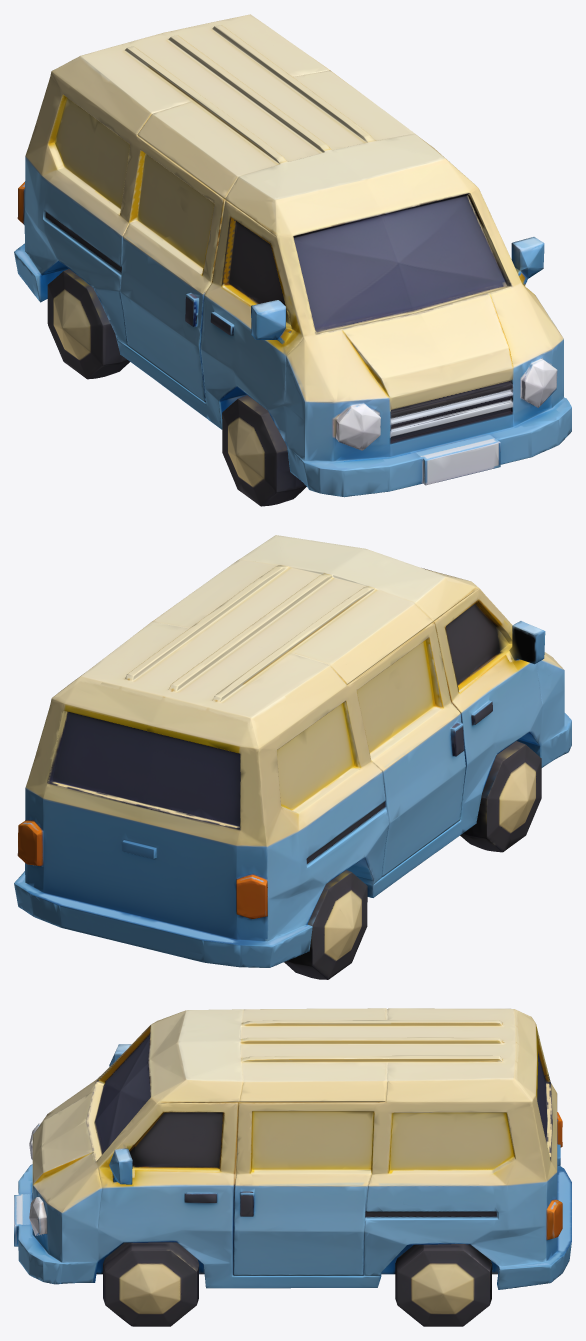
Rendered from car5.fbx.
3 renders of one model, top to bottom at view 1: azimuth 30°, elevation 25°; view 2: azimuth 150°, elevation 25°; view 3: azimuth 270°, elevation 25°, orthographic. The views are drawn at different scales.
Visible parts, largest first — view 1: node_0; view 2: node_0; view 3: node_0.
Part boxes in pixels (box(x1,y1,x2,y2)): node_0: box(14, 14, 571, 506); node_0: box(14, 535, 571, 979); node_0: box(14, 1008, 571, 1326).
Size of the model in its own units: 56.58 by 52.2 by 112.
